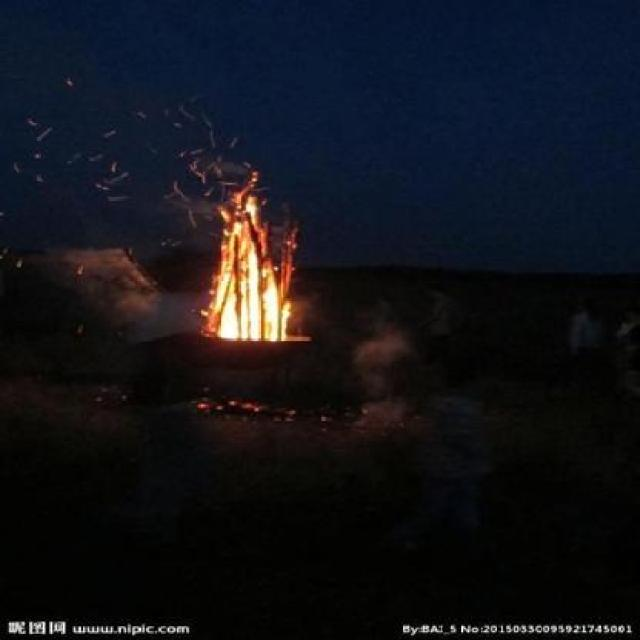Fire: (198, 158, 302, 351)
